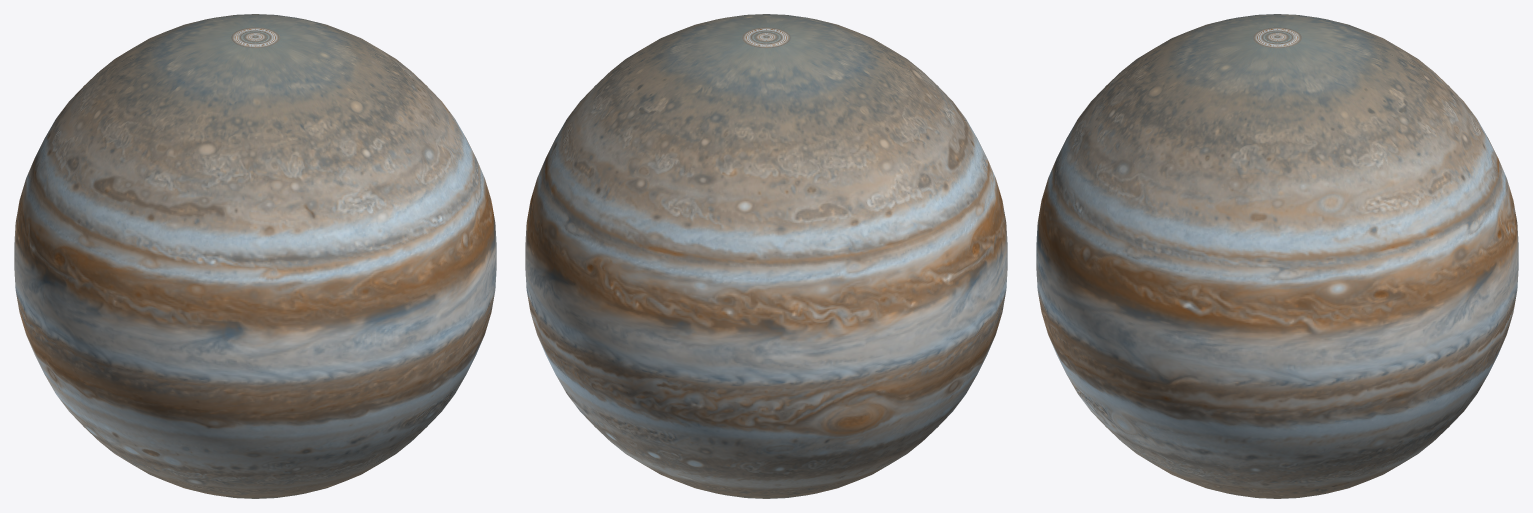
Rendered from jupiter.glb.
3 renders of one model, left to right at view 1: azimuth 30°, elevation 25°; view 2: azimuth 150°, elevation 25°; view 3: azimuth 270°, elevation 25°, orthographic.
Size of the model in its own units: 2 by 2 by 1.99.
Materials: 1 (1 with a texture image).
